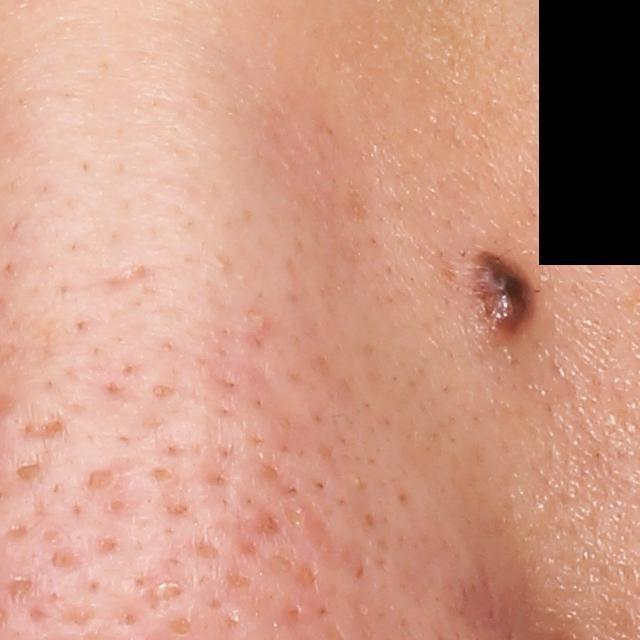atrophic_scar: (144, 553, 190, 616), (12, 404, 65, 444), (101, 260, 155, 290)
nevus: (472, 243, 544, 341)
